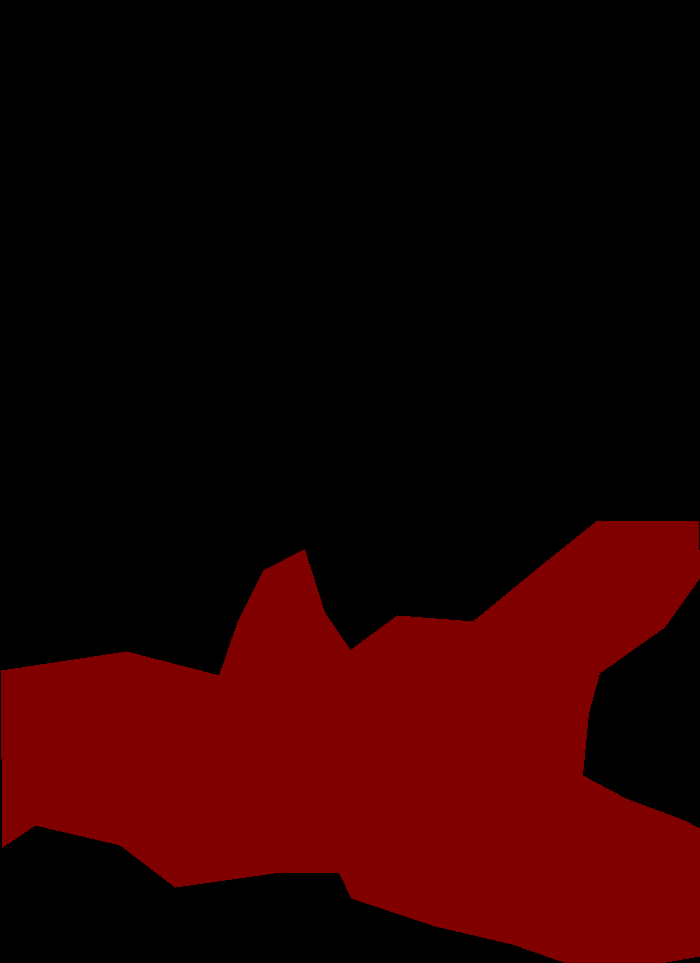fire: (1, 521, 699, 963)
